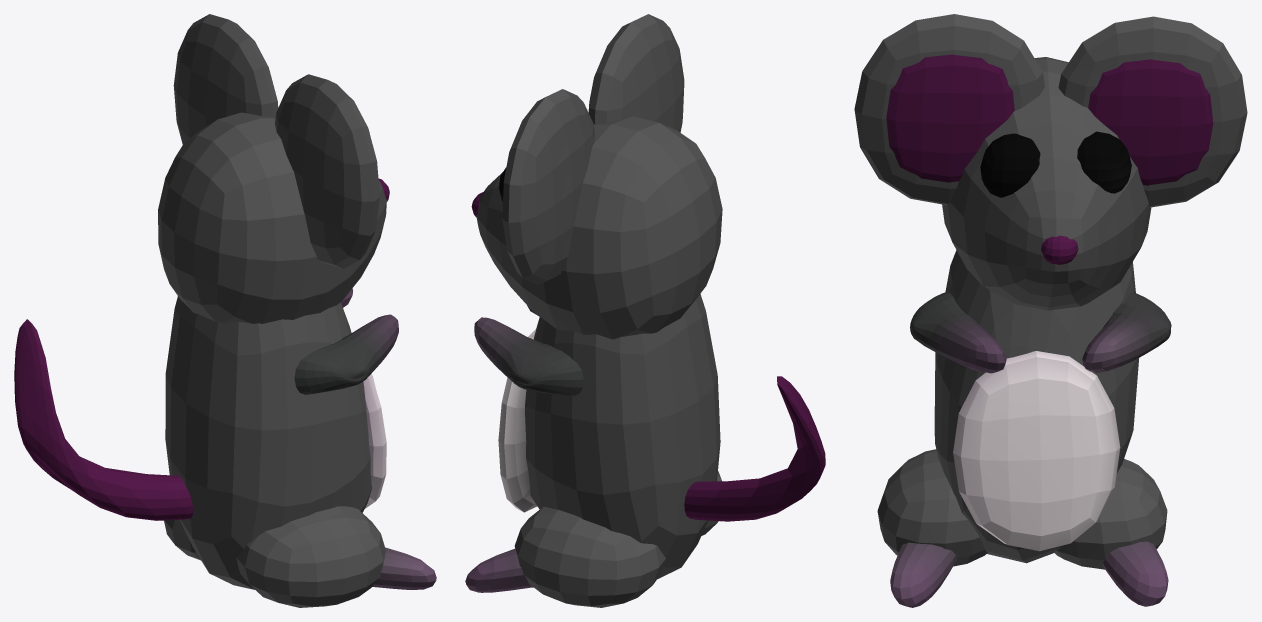
Rendered from RatModAnimation.fbx.
3 views of the same model, side by side, from view 1: azimuth 30°, elevation 25°; view 2: azimuth 150°, elevation 25°; view 3: azimuth 270°, elevation 25° (orthographic). The views are drawn at different scales.
Parts seen in each view (by area): view 1: Cube.017; view 2: Cube.017; view 3: Cube.017.
Part boxes in pixels (x1,y1,x2,y2): Cube.017: (14,14,436,607); Cube.017: (465,14,825,607); Cube.017: (854,14,1247,607).
Size of the model in its own units: 484 by 668 by 425.
